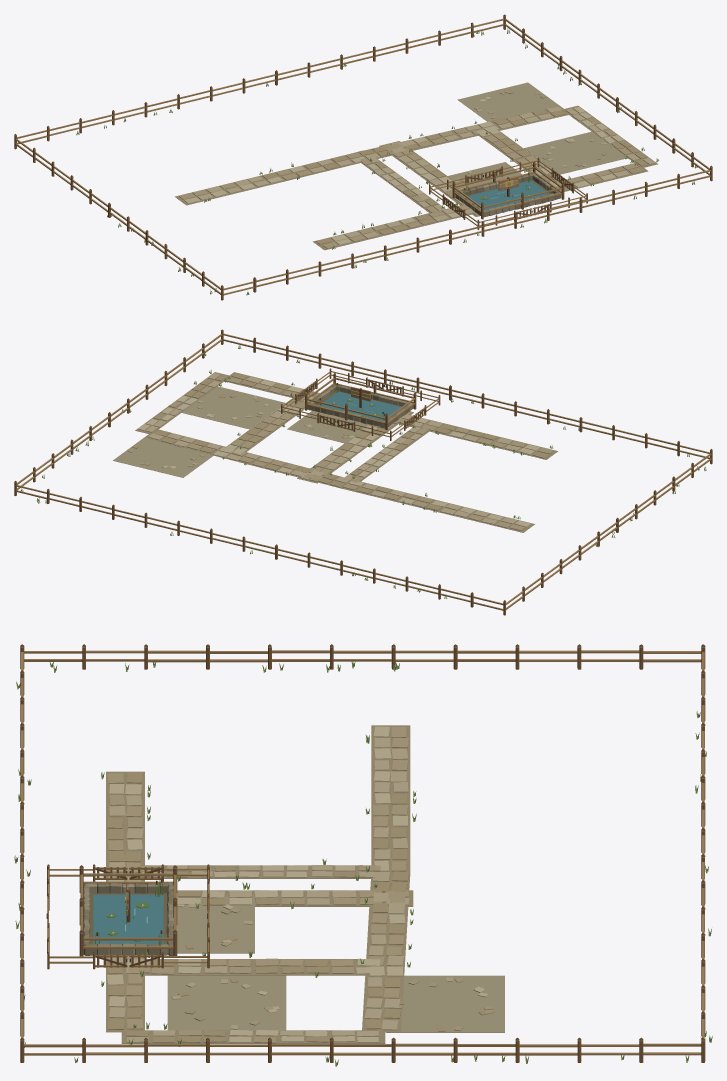
File: grounds.glb
3 views of the same model, one above another, from view 1: azimuth 30°, elevation 25°; view 2: azimuth 150°, elevation 25°; view 3: azimuth 270°, elevation 25° (orthographic). The views are drawn at different scales.
Parts seen in each view (by area): view 1: paths, boundary, pond, field_fence, field_gates; view 2: paths, boundary, pond, field_fence, field_gates; view 3: paths, boundary, pond, field_fence, field_gates.
Part boxes in pixels (x1=…): paths: x1=175, y1=82, x2=658, y2=250; boundary: x1=14, y1=14, x2=712, y2=300; pond: x1=452, y1=162, x2=564, y2=219; field_fence: x1=429, y1=157, x2=587, y2=229; field_gates: x1=443, y1=168, x2=572, y2=219; paths: x1=113, y1=369, x2=557, y2=532; boundary: x1=14, y1=329, x2=712, y2=615; pond: x1=305, y1=373, x2=416, y2=429; field_fence: x1=281, y1=368, x2=440, y2=440; field_gates: x1=296, y1=379, x2=425, y2=430; paths: x1=101, y1=725, x2=504, y2=1046; boundary: x1=14, y1=644, x2=712, y2=1066; pond: x1=79, y1=865, x2=177, y2=956; field_fence: x1=47, y1=864, x2=209, y2=969; field_gates: x1=46, y1=867, x2=209, y2=967.
Size of the model in its own units: 30.43 by 1.26 by 22.38.
